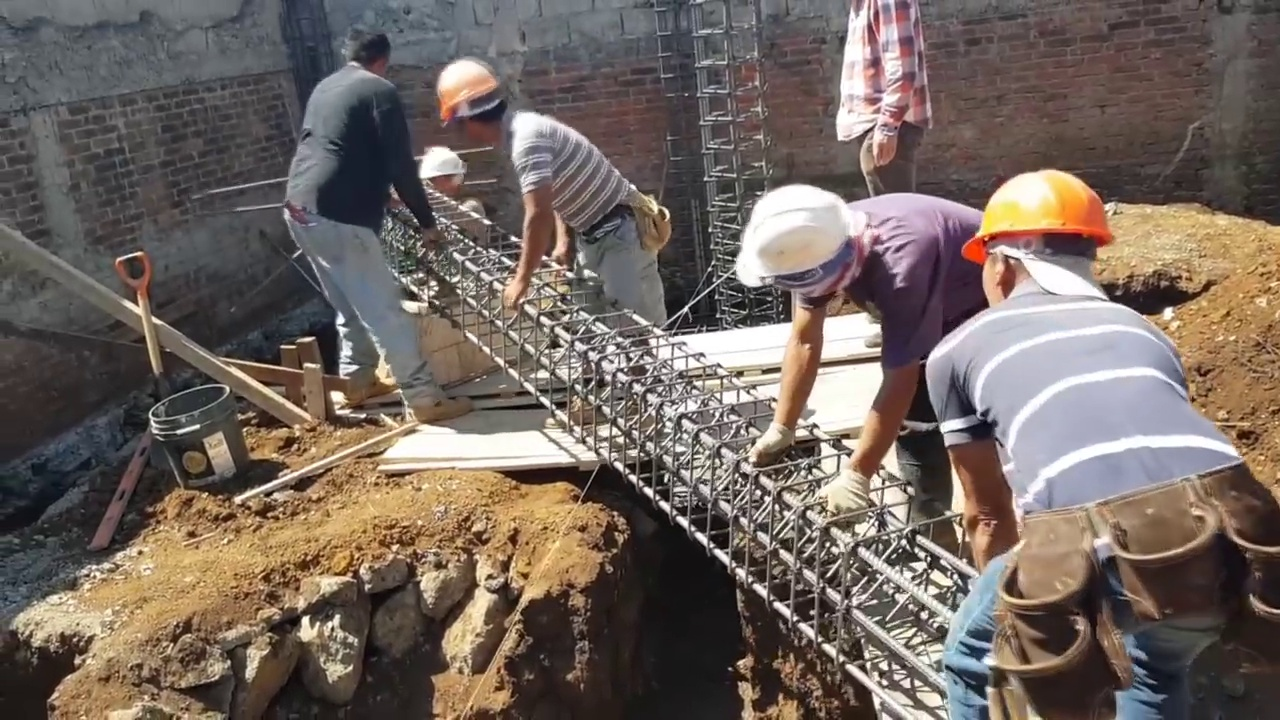helmet: (967, 176, 1121, 266), (738, 182, 859, 289), (432, 56, 494, 120), (421, 145, 466, 183)
helmet-off: (346, 26, 388, 75)
helmet-on: (978, 171, 1122, 309), (737, 181, 875, 310), (433, 53, 511, 153), (420, 145, 470, 202)
person: (926, 169, 1280, 689), (433, 48, 670, 430), (735, 184, 989, 528), (289, 30, 438, 424), (835, 0, 930, 206)
